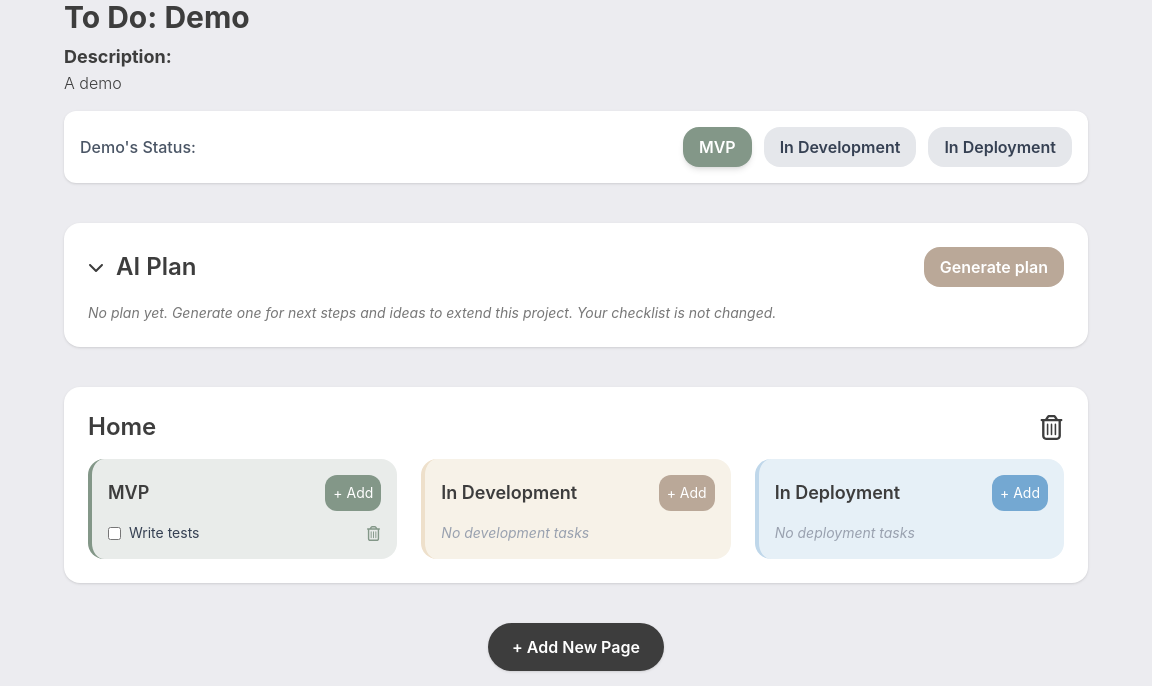
Test: ProjectDetail › adding a page sends a single request; the backend creates its sections (4.1, B8)
Expected: the heading "Home" is shown, [88,411,156,443]
Click the button "+ Add New Page" at point(576, 647), box [488,623,664,671]
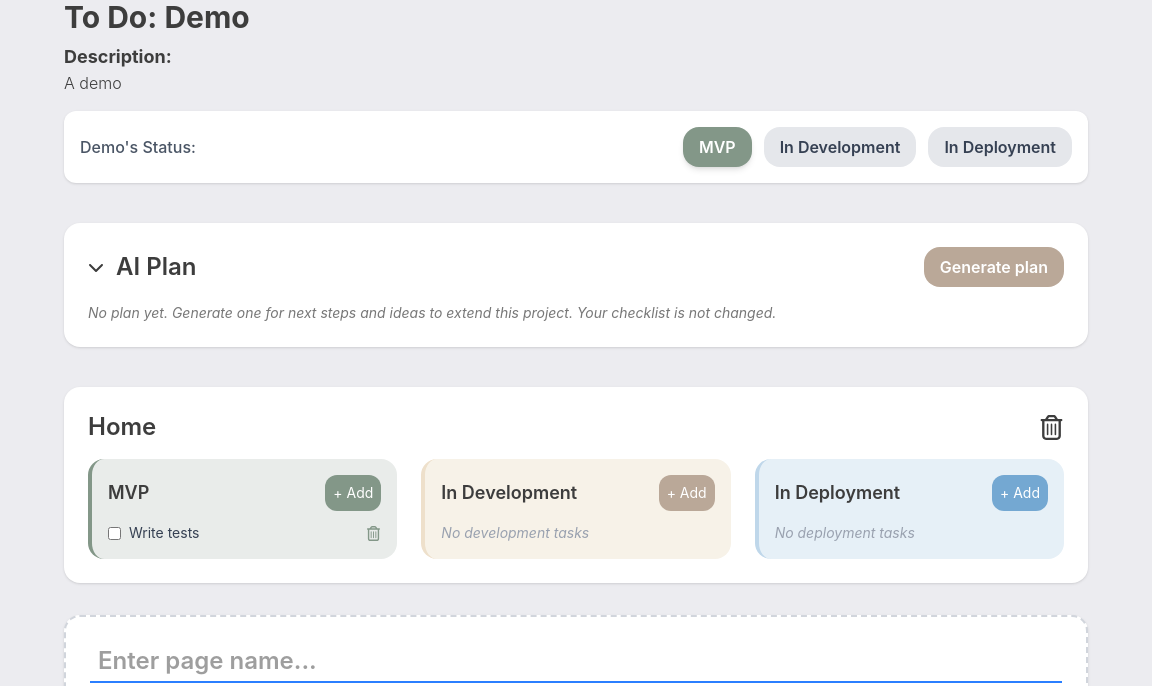
Type "About" into the field with placeholder "Enter page name..." at point(576, 662), box [90,641,1062,683]
(page scrolled)
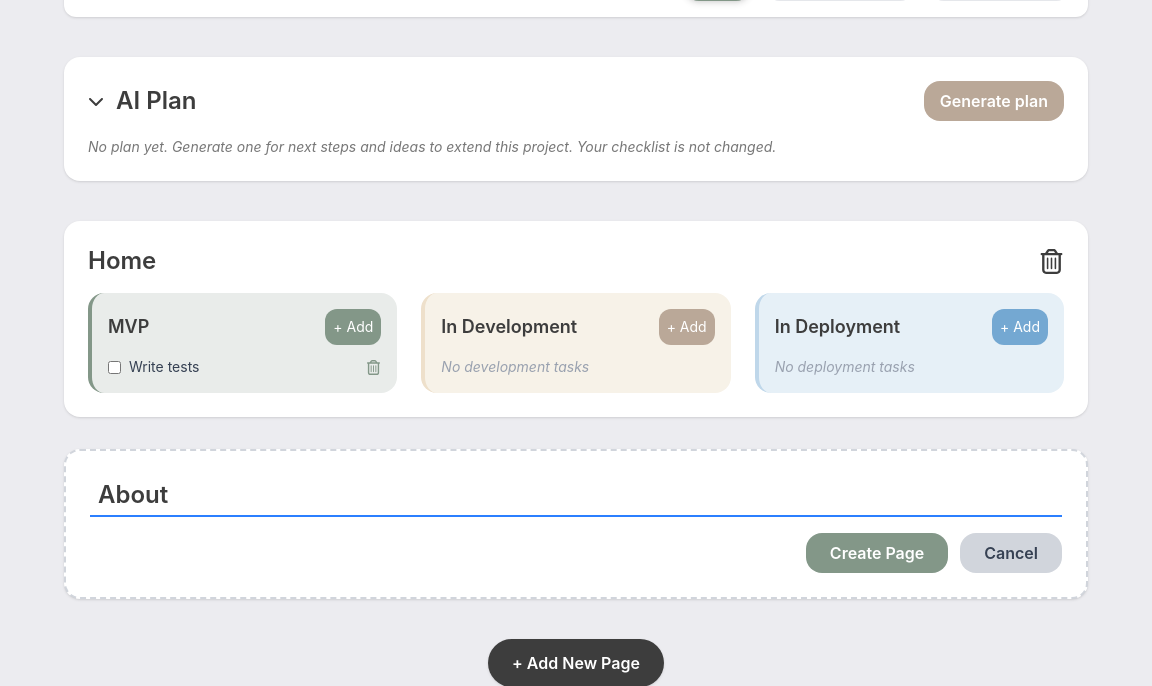
Click the button "Create Page" at point(877, 553), box [806,533,948,573]
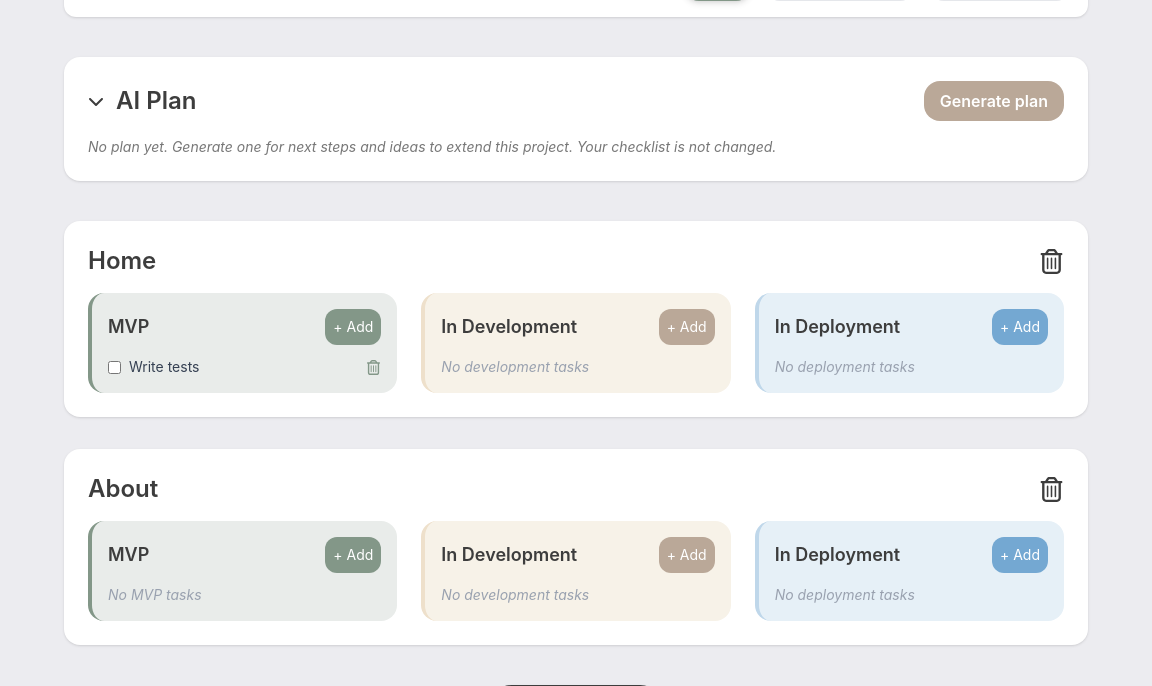
Result: the heading "About" is shown at [88,473,158,505]
